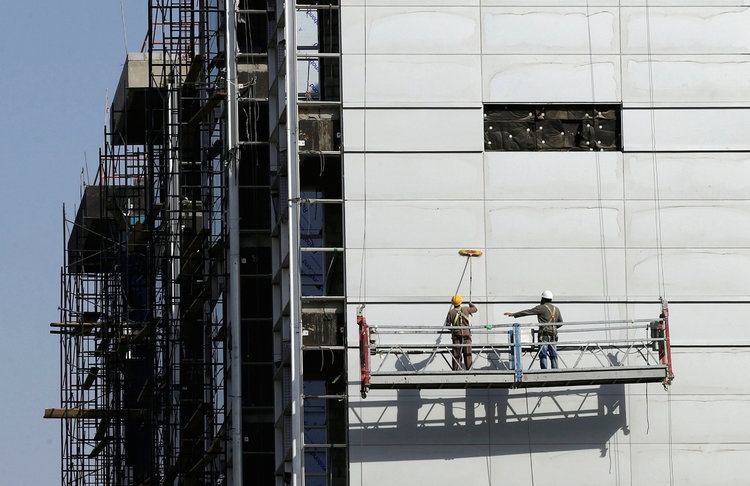white: (540, 289, 552, 303)
yellow: (450, 294, 462, 308)
